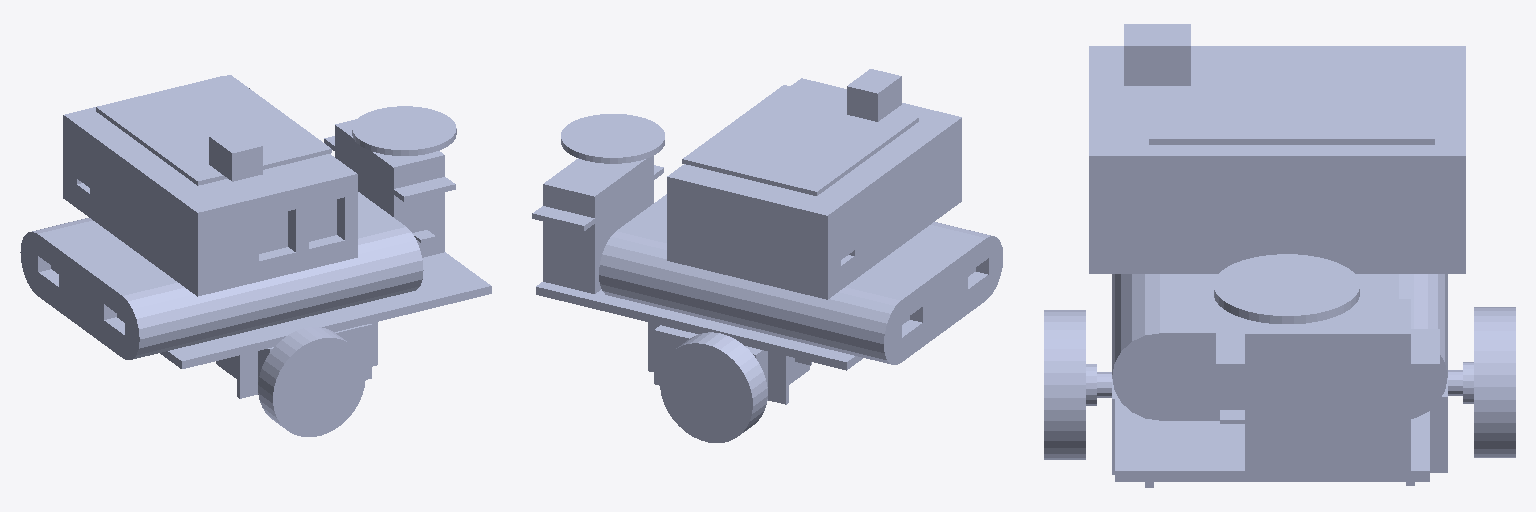
The robot description file, URDF, robot "jisyupro_model":
<?xml version="1.0" encoding="utf-8"?>
<!-- This URDF was automatically created by SolidWorks to URDF Exporter! Originally created by [author] ([email redacted]) 
     Commit Version: 1.5.1-0-g916b5db  Build Version: 1.5.7152.31018
     For more information, please see http://wiki.ros.org/sw_urdf_exporter -->
<robot
  name="jisyupro_model">
  <link
    name="base_footprint">
    <inertial>
      <origin
        xyz="0.00168546745496115 0.000438433348243075 0.0496912000430039"
        rpy="0 0 0" />
      <mass
        value="0.504881297772453" />
      <inertia
        ixx="0.000258243451949479"
        ixy="-1.43356728549921E-06"
        ixz="8.32990347568532E-08"
        iyy="0.000317303071442943"
        iyz="2.97481584917797E-07"
        izz="0.000518462844424268" />
    </inertial>
    <visual>
      <origin
        xyz="0 0 0"
        rpy="0 0 0" />
      <geometry>
        <mesh
          filename="package://jisyupro/meshes/base_footprint.STL" />
      </geometry>
      <material
        name="">
        <color
          rgba="0.792156862745098 0.819607843137255 0.933333333333333 1" />
      </material>
    </visual>
    <collision>
      <origin
        xyz="0 0 0"
        rpy="0 0 0" />
      <geometry>
        <mesh
            filename="package://jisyupro/meshes/base_footprint.STL" />
      </geometry>
    </collision>
  </link>
</robot>

--- Facts derived from the render (not from the file) ---
The picture shows the robot from 3 angles, left to right: view 1: azimuth 30°, elevation 25°; view 2: azimuth 150°, elevation 25°; view 3: azimuth 270°, elevation 25°; orthographic projection.
Model jisyupro_model with 1 links and 0 joints (none), rooted at base_footprint, posed all joints at 0.
Links seen in each view (by area): view 1: base_footprint; view 2: base_footprint; view 3: base_footprint.
Link boxes in pixels (left/top/right/bottom): base_footprint: left=20, top=75, right=491, bottom=436; base_footprint: left=532, top=69, right=1002, bottom=442; base_footprint: left=1044, top=24, right=1515, bottom=487.
Bounding box of the posed robot: 0.1441 × 0.1123 × 0.1023 m (x, y, z).
1 mesh visuals loaded from 1 distinct referenced files (1 binary STL).
